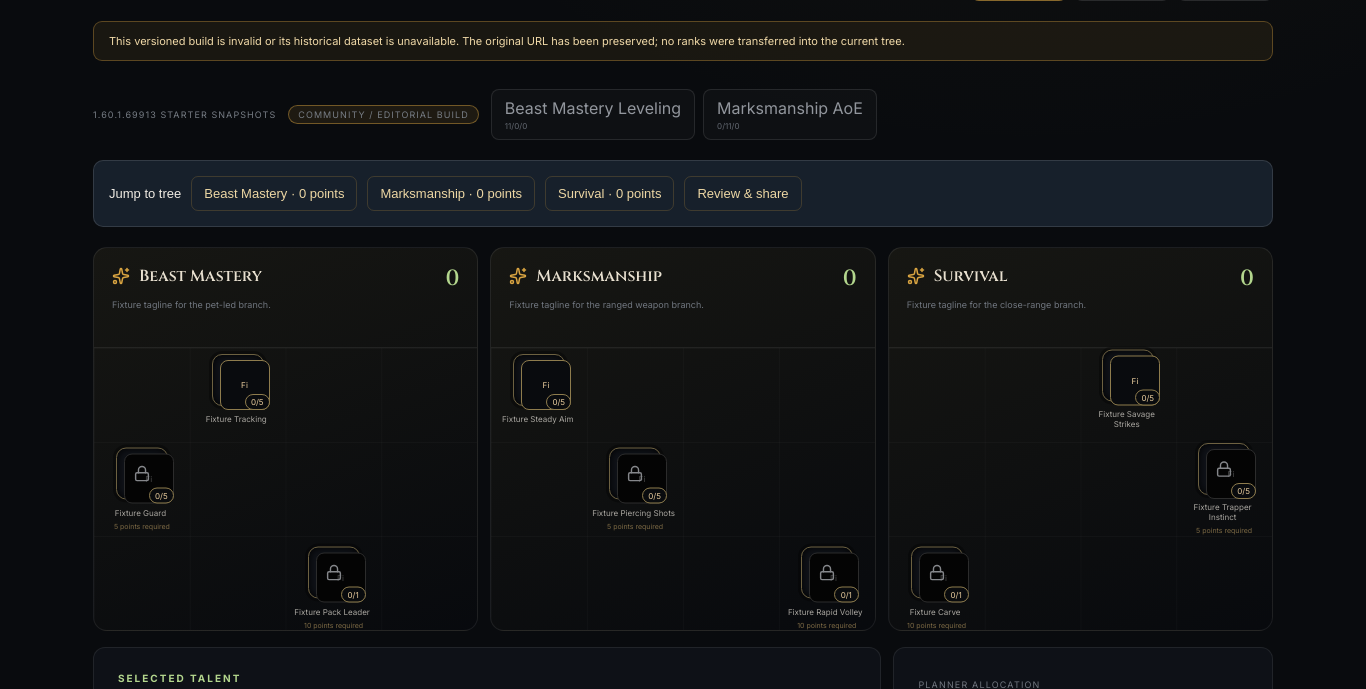
Scenario: ClassCalculatorPage renders any class from ClassDefinition › does not reinterpret an unknown explicitly versioned share as a current build
(page scrolled)
Check: the element with id "bm-1" shows "0/5", box [196,354,280,426]
Check: the message shows "historical dataset is unavailable", box [109,34,905,48]
Click the button with aria-label "Add rank to Fixture Tracking" at [238, 380], box [212,354,264,406]
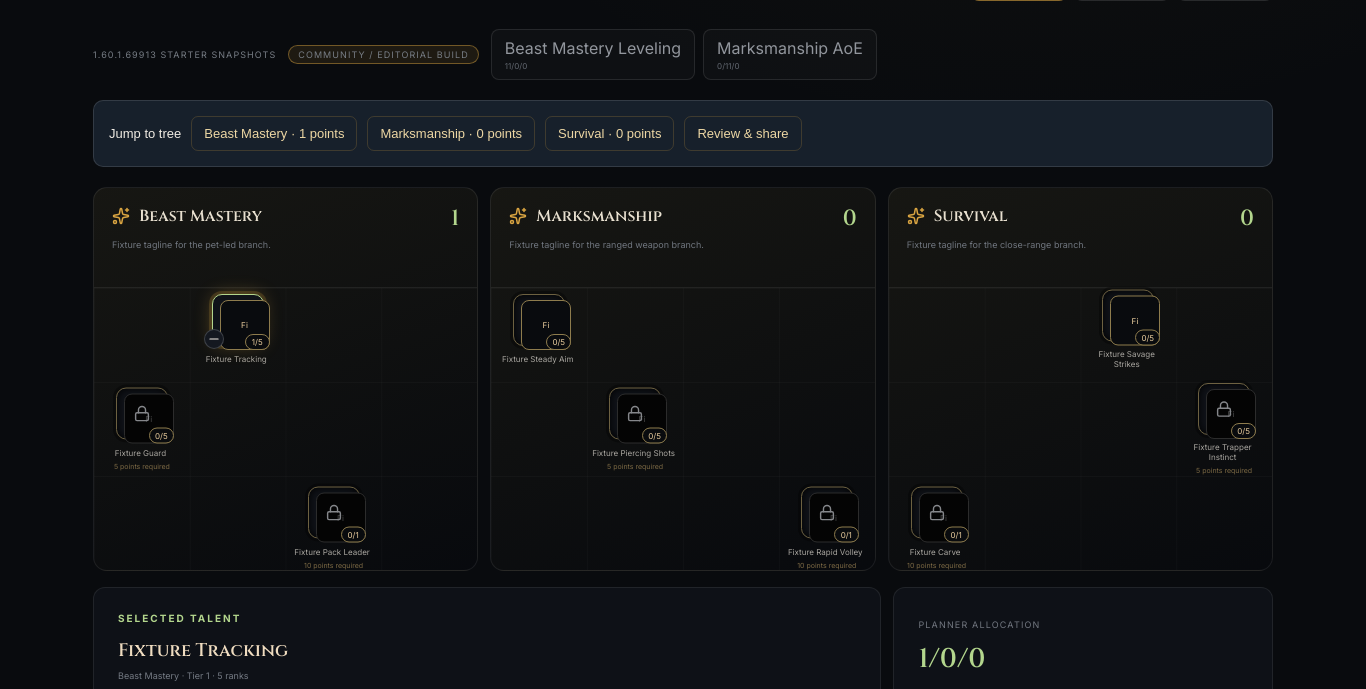
Check: the element with id "bm-1" shows "1/5", box [196,294,280,366]
